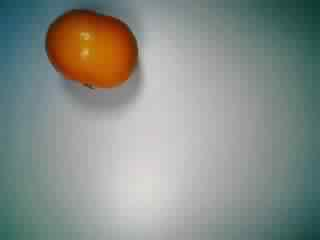orange: (44, 5, 143, 95)
